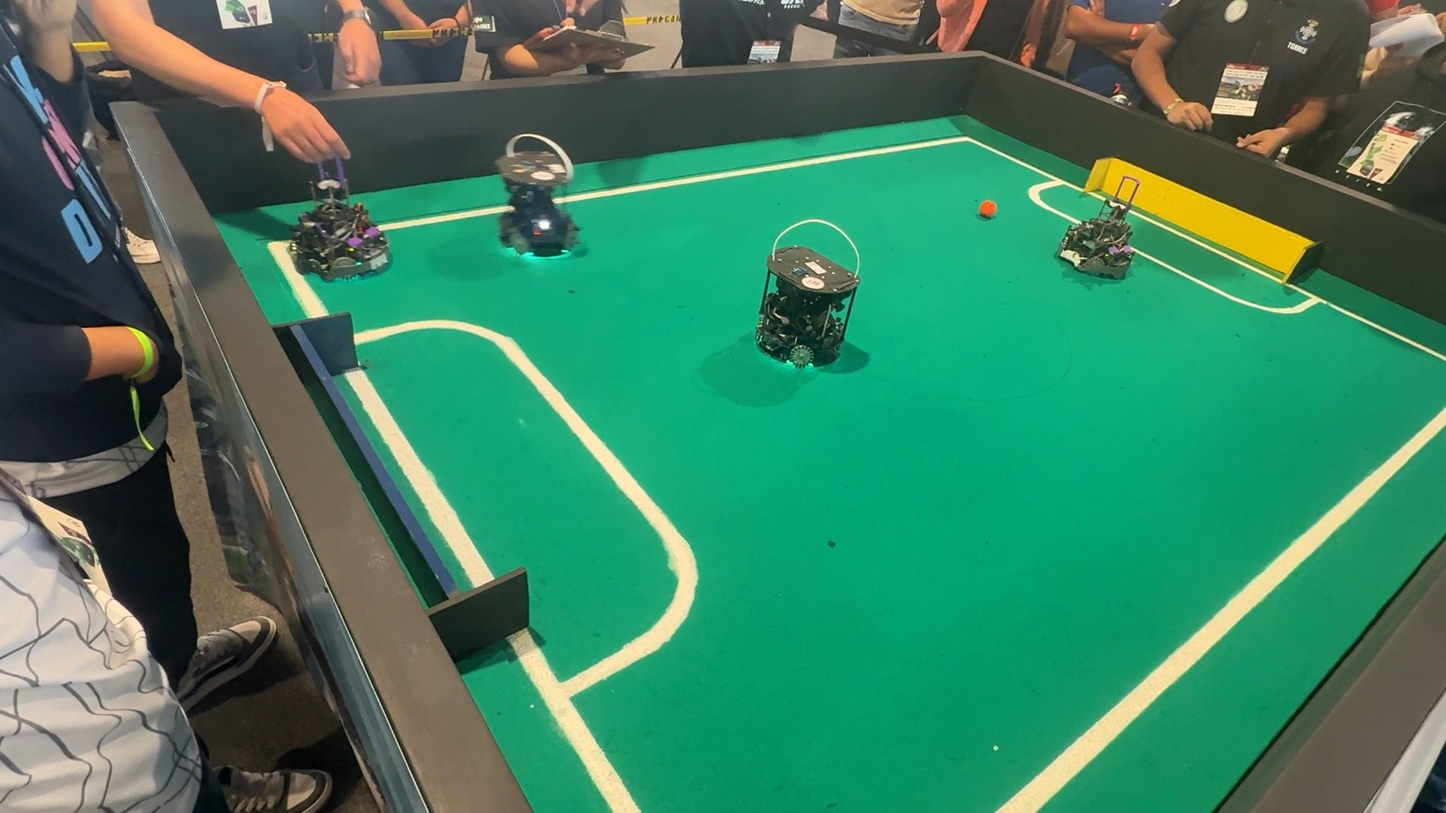Robot: (734, 210, 869, 395), (477, 133, 597, 282), (1043, 164, 1161, 295), (280, 164, 397, 284)
pelota: (969, 197, 1003, 226)
